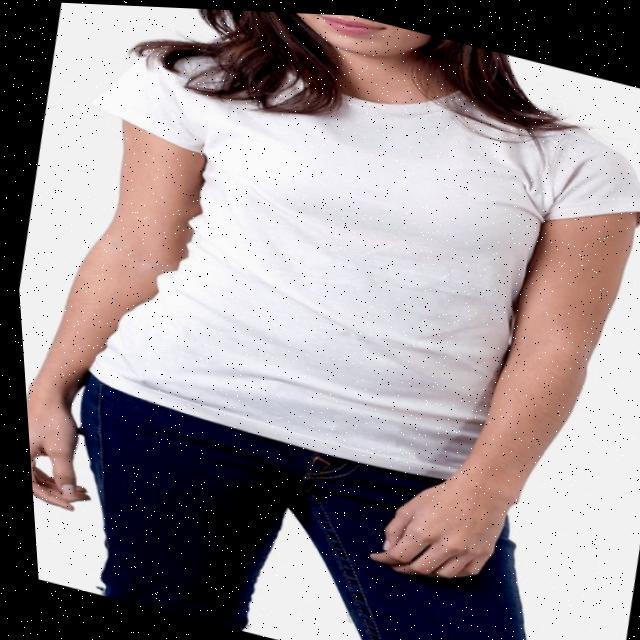Upper-Body: (82, 40, 640, 476)
